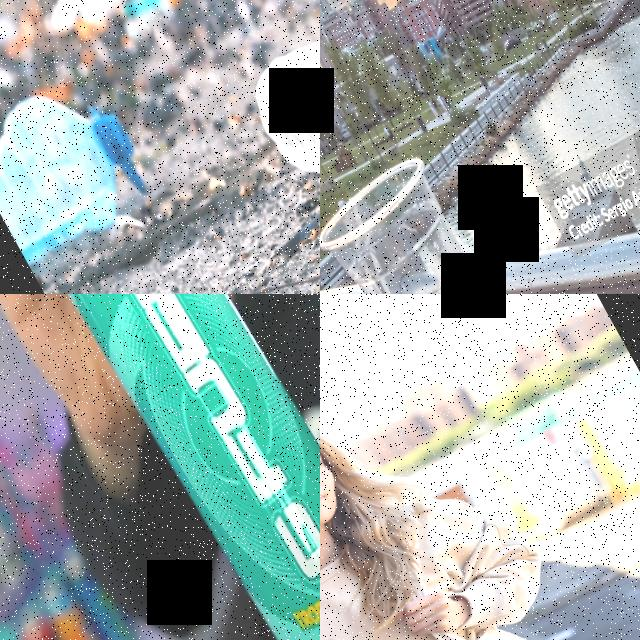bottle: (235, 0, 320, 222)
can: (0, 294, 320, 640)
cup: (320, 149, 570, 294)
